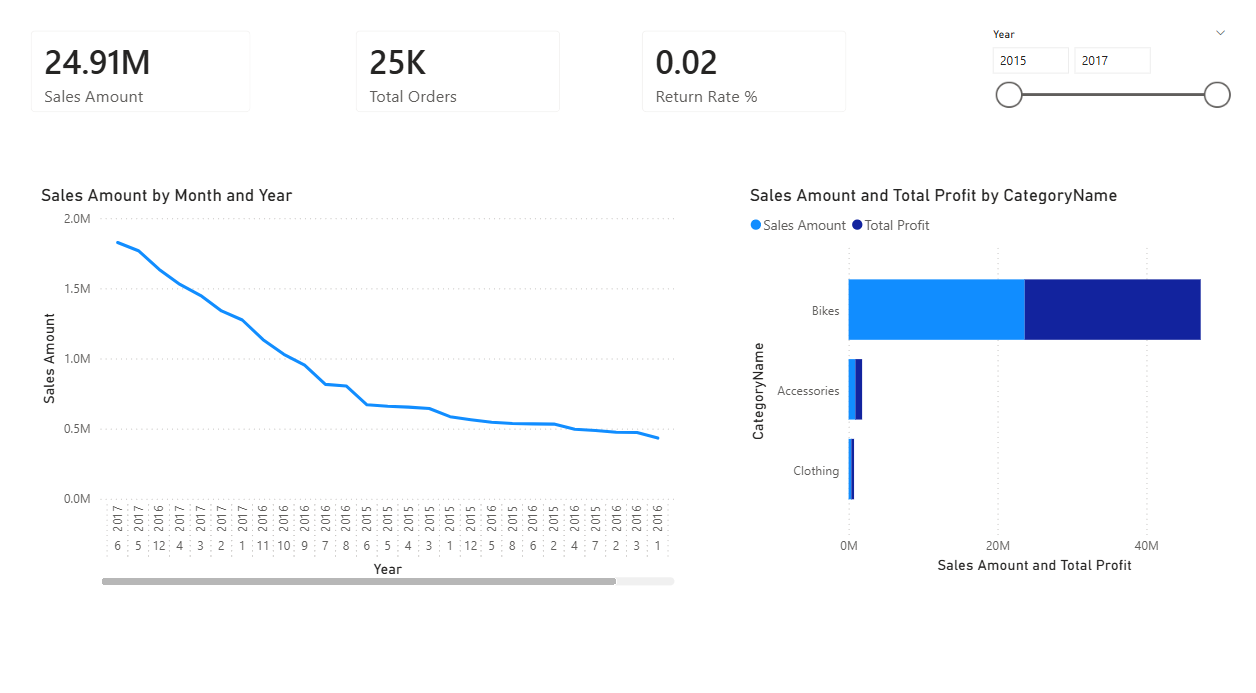

This screenshot's page, from the dashboard's own definition file:
{"tool":"powerbi","page":{"name":"Executive Dashboard","canvas":[1280,720],"ordinal":0},"visuals":[{"type":"cardVisual","fields":{"Data":["FactSales.Sales Amount"]},"box":[41.6,20.8,249.5,114.9],"z":0},{"type":"cardVisual","fields":{"Data":["FactSales.Total Orders"]},"box":[359.5,20.8,234.8,114.9],"z":1000},{"type":"cardVisual","fields":{"Data":["FactSales.Return Rate %"]},"box":[639.5,20.8,234.8,114.9],"z":3000},{"type":"lineChart","fields":{"Y":["FactSales.Sales Amount"],"Category":["DimDate.Month","DimDate.Year"]},"box":[63.6,188.3,629.8,397.4],"z":4000},{"type":"barChart","fields":{"Category":["DimProduct.CategoryName"],"Y":["FactSales.Sales Amount","FactSales.Total Profit"]},"box":[756.9,188.3,483,385.2],"z":6000},{"type":"slicer","fields":{"Values":["DimDate.Year"]},"box":[986.8,29.3,253.1,106.4],"z":7000}]}

Visuals, with their boxes in screenshot pixels (x1, y1, x2, y2), scaled from the page's 1280x720 canvas onto the 1256x693 screenshot:
cardVisual - FactSales.Sales Amount: crop(41, 20, 286, 131)
cardVisual - FactSales.Total Orders: crop(353, 20, 583, 131)
cardVisual - FactSales.Return Rate %: crop(628, 20, 858, 131)
lineChart - FactSales.Sales Amount x DimDate.Month: crop(62, 181, 680, 564)
barChart - DimProduct.CategoryName x FactSales.Sales Amount: crop(743, 181, 1217, 552)
slicer - DimDate.Year: crop(968, 28, 1217, 131)
